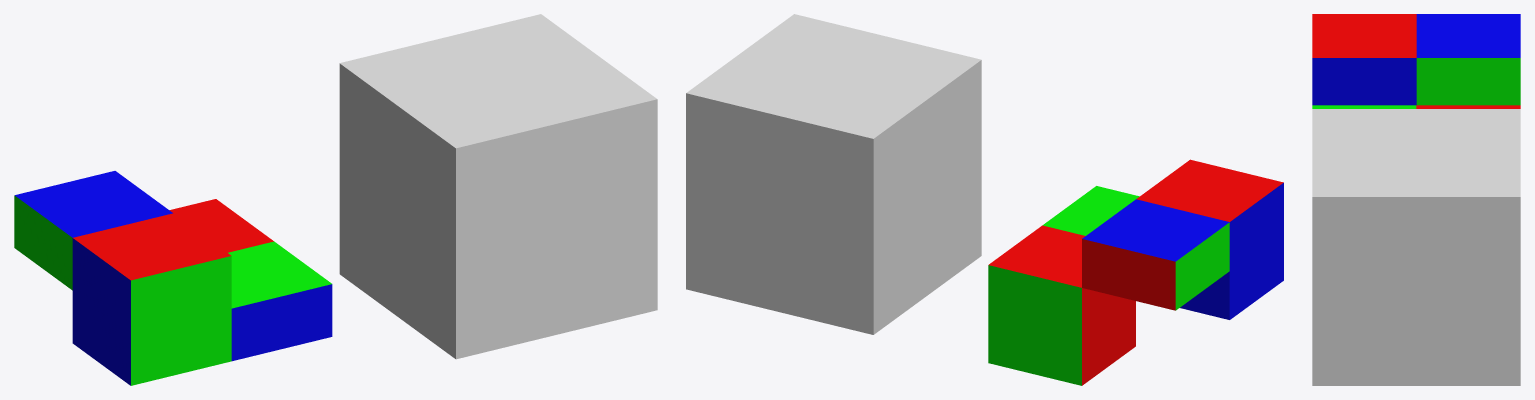
The model's file is testOrigin.gltf.
The picture shows the model from 3 angles, left to right: view 1: azimuth 30°, elevation 25°; view 2: azimuth 150°, elevation 25°; view 3: azimuth 270°, elevation 25°; orthographic projection. The views are drawn at different scales.
Visible parts, largest first — view 1: Cube, _(Loose Entity); view 2: Cube, _(Loose Entity); view 3: Cube, _(Loose Entity).
Boxes of the visible parts, x1,y1,x2,y2 form: Cube: (339, 14, 657, 359); _(Loose Entity): (14, 171, 332, 385); Cube: (686, 14, 981, 334); _(Loose Entity): (988, 159, 1283, 385); Cube: (1312, 109, 1520, 385); _(Loose Entity): (1312, 14, 1520, 108).
Bounding box in the file's own units: 5.22 × 2 × 2.
